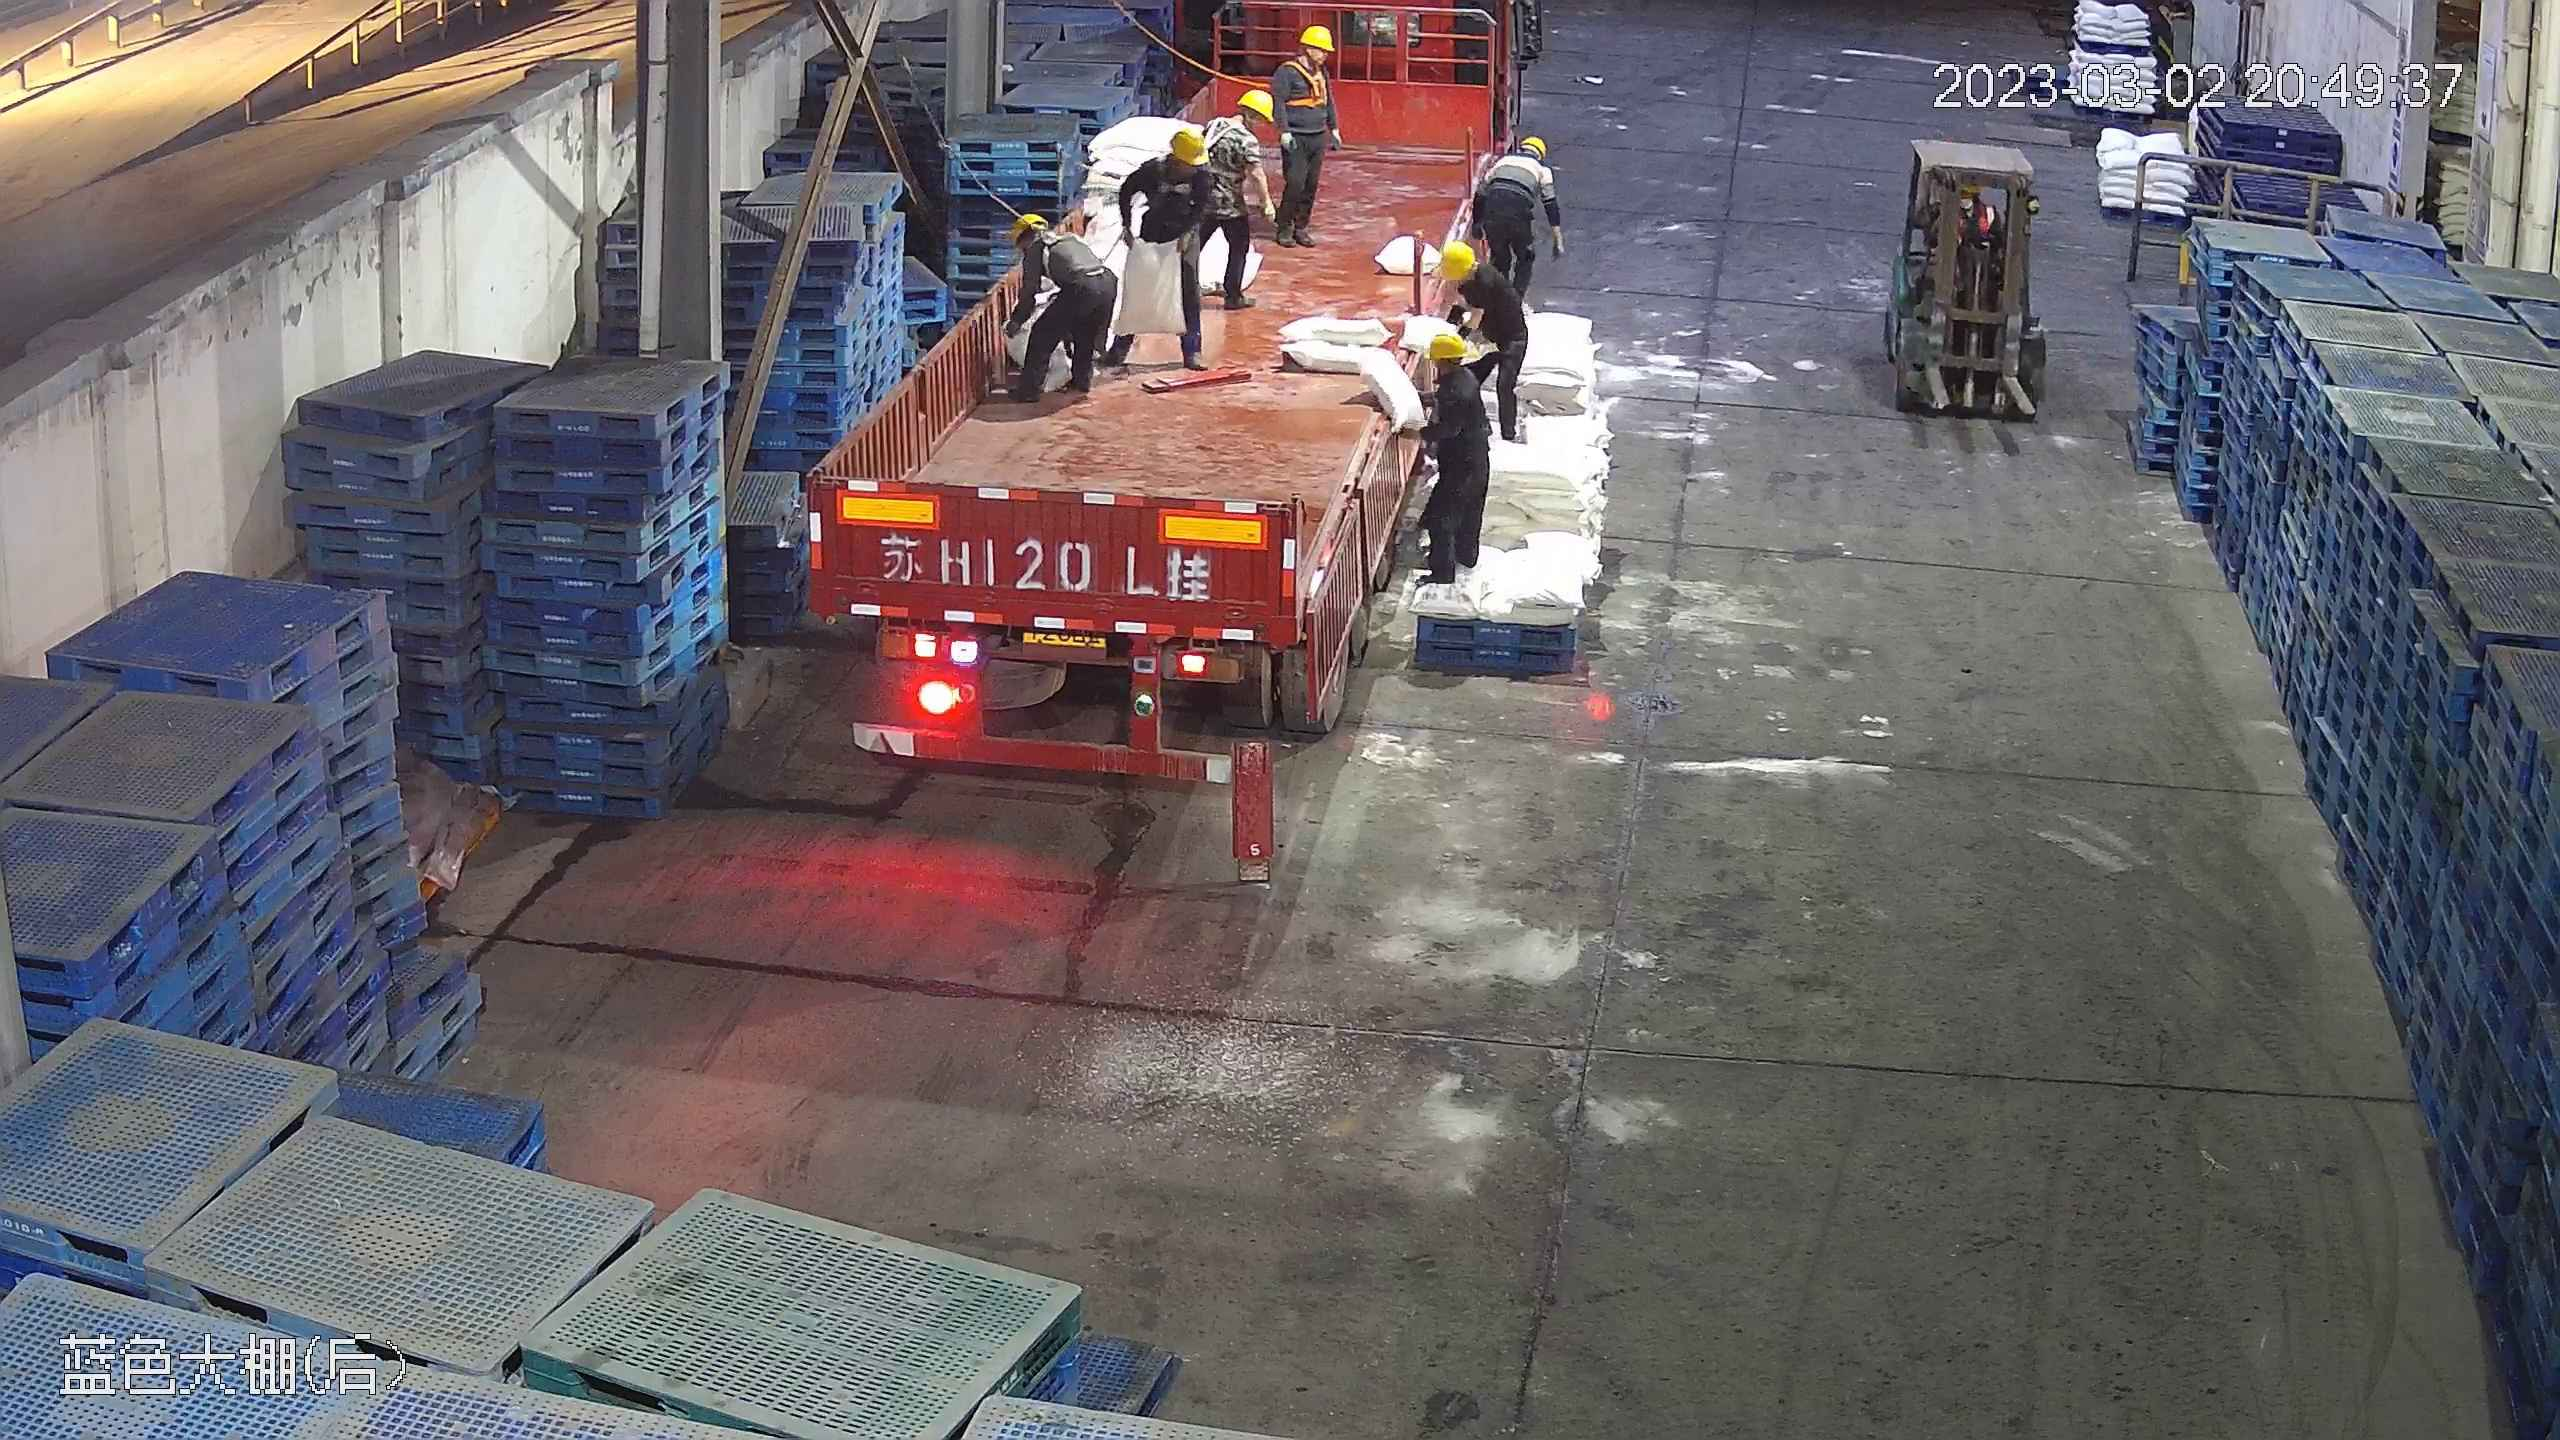belt: (1020, 212, 1096, 276), (1201, 114, 1262, 176), (1280, 62, 1330, 113), (1155, 156, 1198, 197)
head: (1439, 238, 1517, 339), (1129, 125, 1216, 204), (1416, 333, 1487, 424), (1008, 210, 1091, 278), (1478, 137, 1551, 201), (1273, 24, 1337, 96), (1210, 93, 1274, 161)
helmet: (1419, 331, 1472, 366), (1167, 122, 1210, 163), (1439, 240, 1476, 275), (1235, 89, 1272, 121), (1010, 210, 1045, 239), (1294, 23, 1330, 49), (1521, 132, 1550, 156)
people: (1113, 116, 1219, 370), (999, 208, 1112, 405), (1409, 332, 1491, 589), (1447, 232, 1540, 440), (1458, 132, 1554, 325), (1264, 21, 1341, 245), (1201, 89, 1275, 313), (1444, 236, 1526, 340)
truck: (793, 40, 1526, 781)
